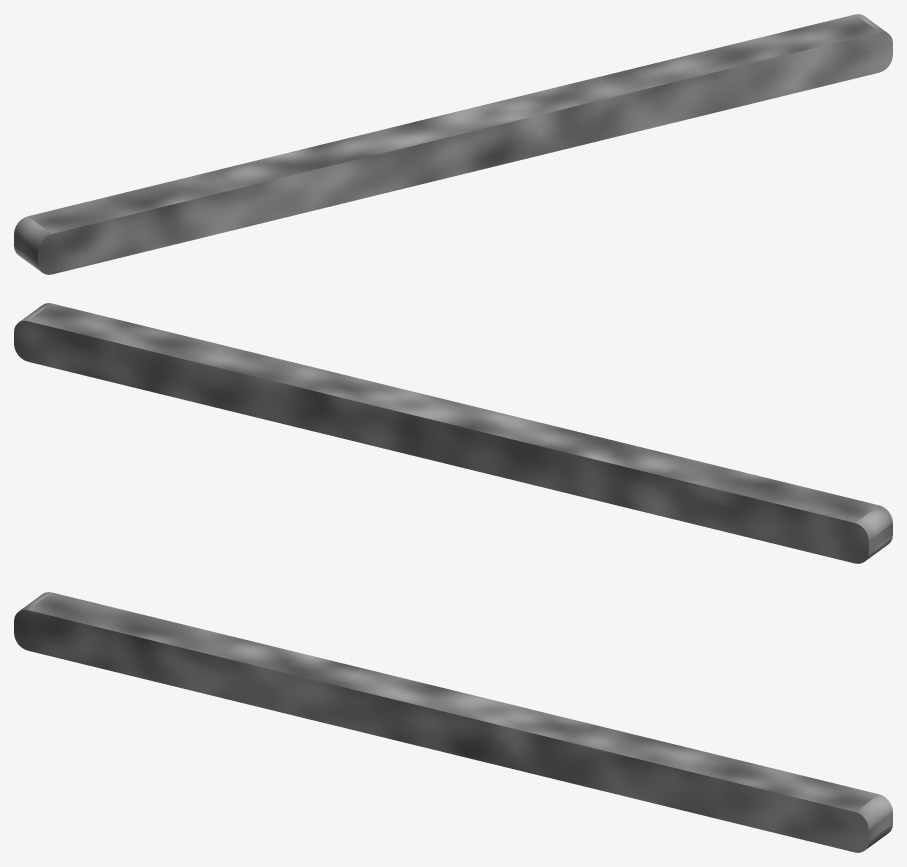
Rendered from Playstation_Disk_Slot.obj.
3 views of the same model, one above another, from view 1: azimuth 30°, elevation 25°; view 2: azimuth 150°, elevation 25°; view 3: azimuth 330°, elevation 25° (orthographic).
Bounding box in the file's own units: 0.1225 × 0.00556 × 0.006.
1 material, 1 textured.
